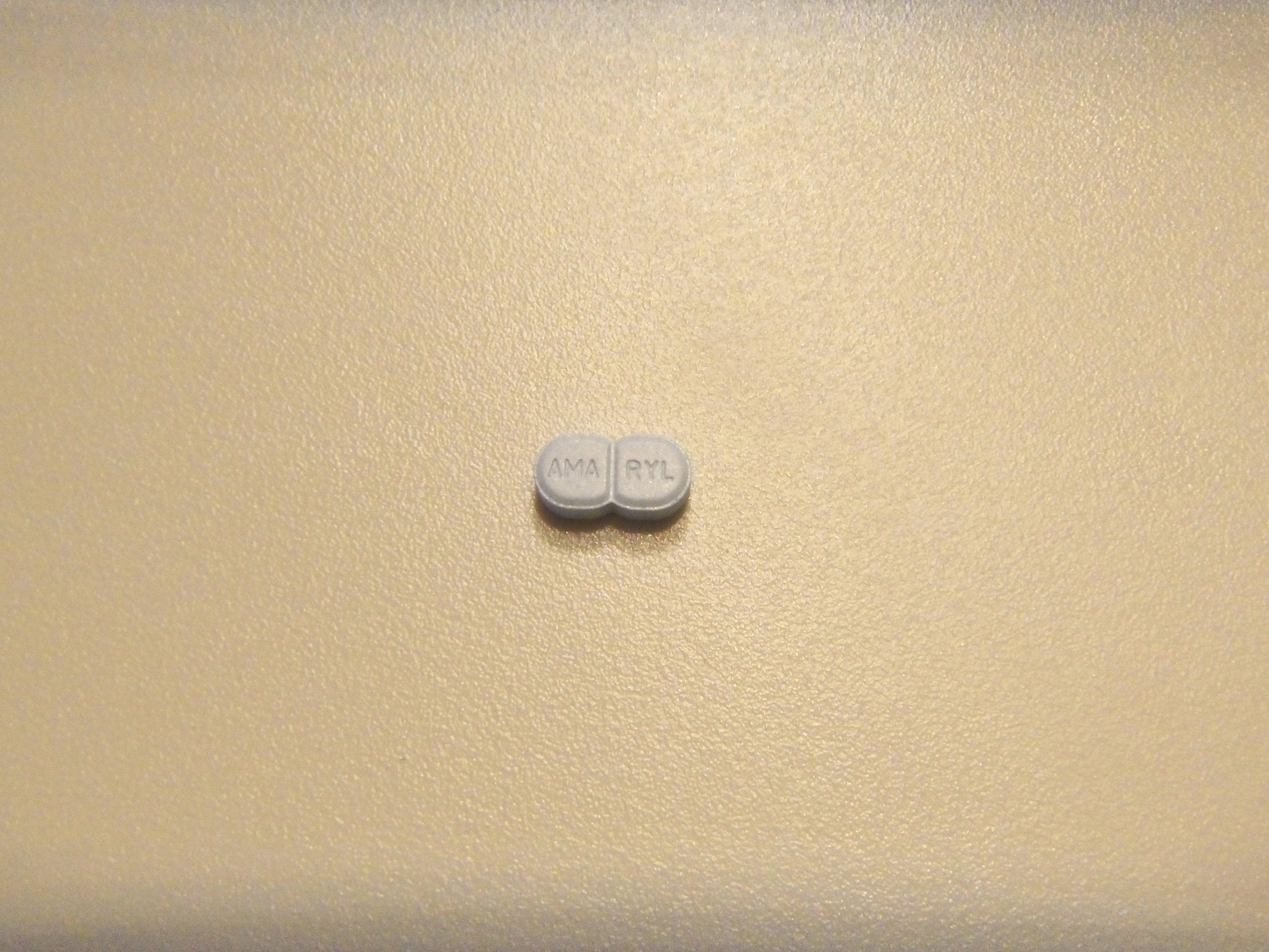Pill: (499, 410, 722, 552)
